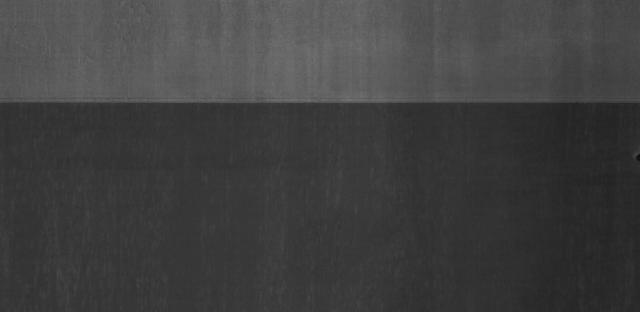punching_hole: (634, 151, 640, 163)
welding_line: (1, 96, 640, 113)
